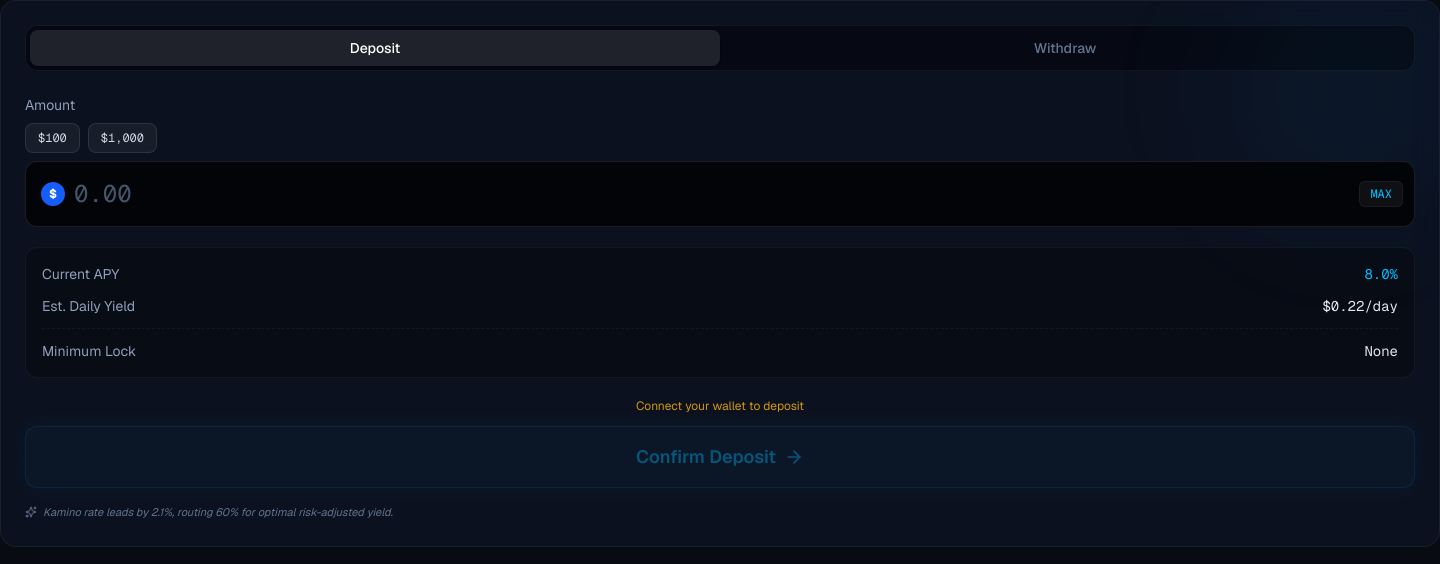
Scenario: DepositForm — preset amount buttons › rendering › preset buttons reappear when switching back to deposit mode
The width and height of the screenshot is (1440, 564).
Click the button "Withdraw".
click(1065, 48)  # box [720, 30, 1410, 66]
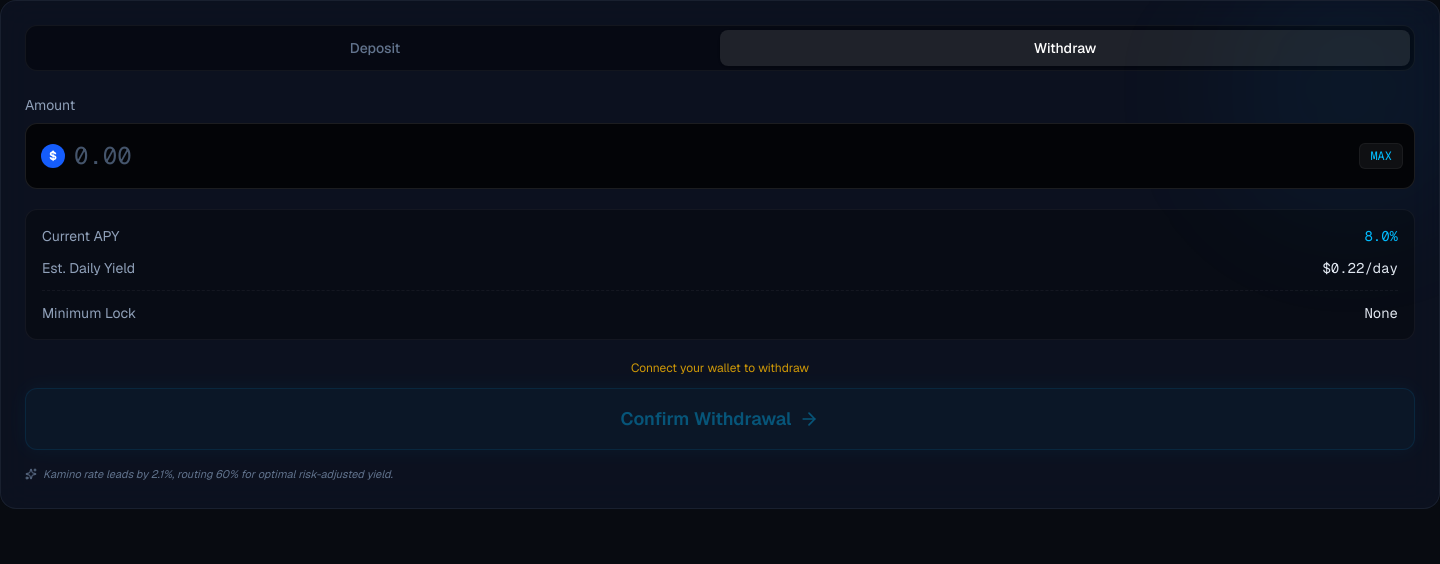
Click the button "Deposit".
click(375, 48)  # box [30, 30, 720, 66]
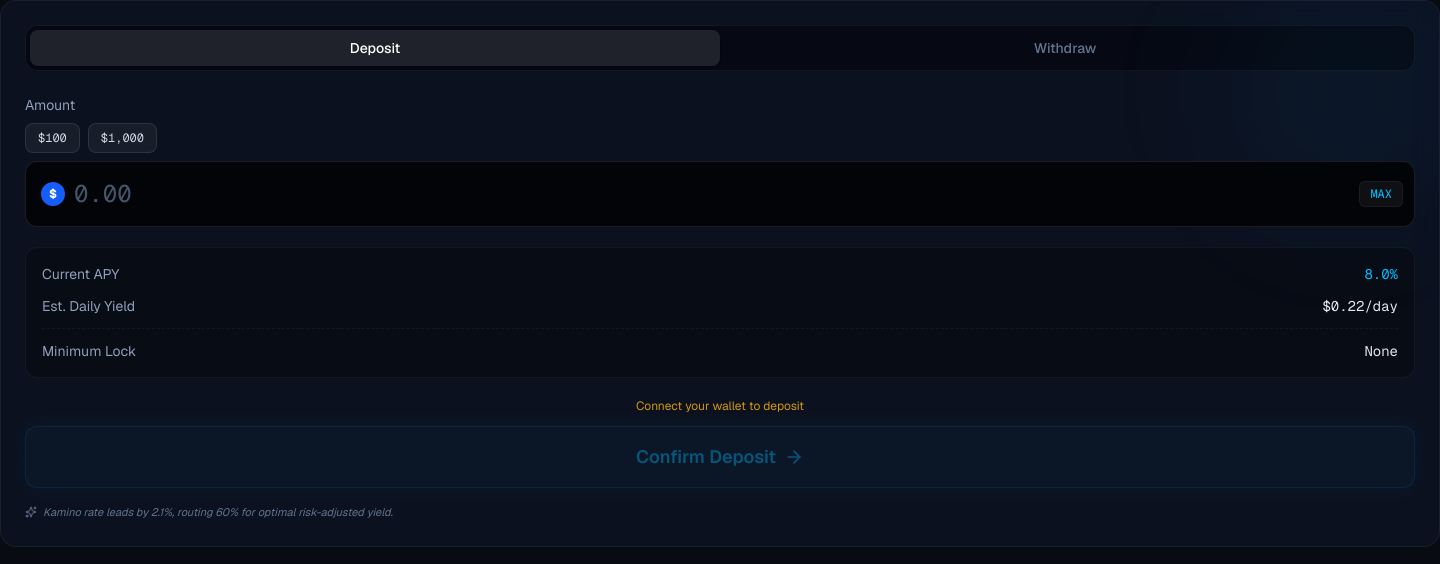
Now the button "$100" is shown, box [25, 123, 80, 153]
Now the button "$1,000" is shown, box [88, 123, 157, 153]
